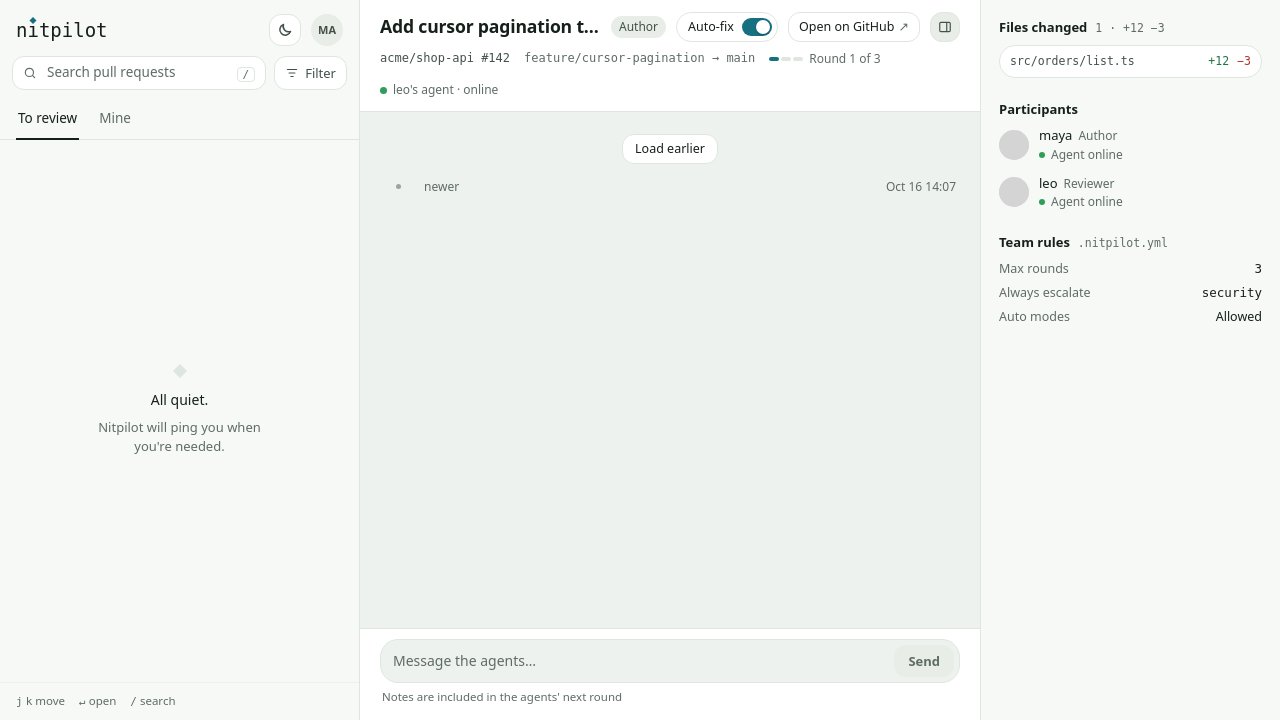
Test case: Chat (handoff §2) › loads earlier items on request
The width and height of the screenshot is (1280, 720).
Click the button "Load earlier" at (670, 149), box [622, 134, 718, 164]
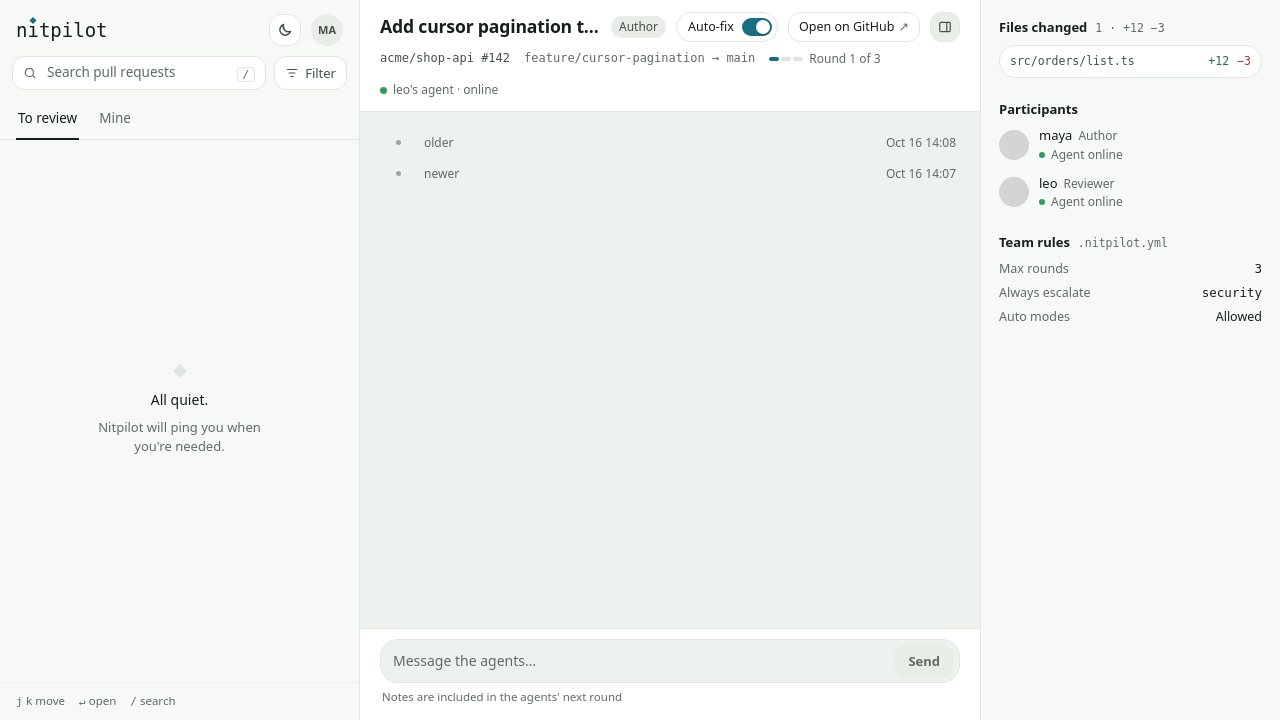
Check: the text "older" is shown, box [424, 134, 454, 151]
Check: the button "Load earlier" is gone
